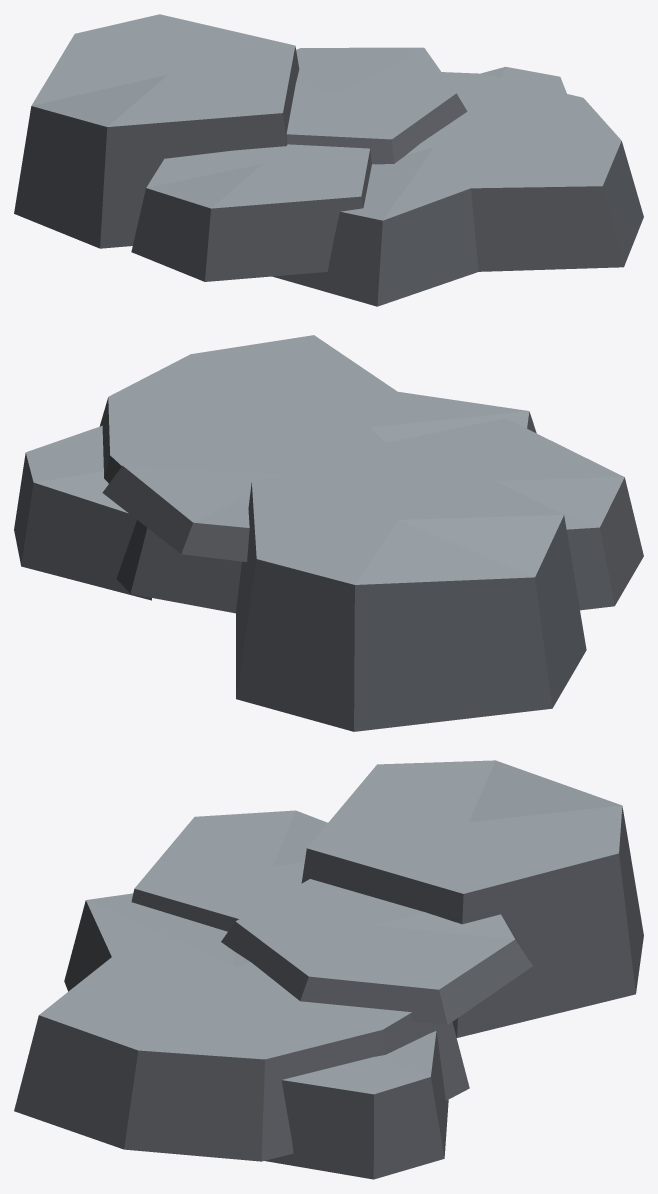
The picture shows the model from 3 angles, top to bottom: view 1: azimuth 30°, elevation 25°; view 2: azimuth 150°, elevation 25°; view 3: azimuth 270°, elevation 25°; orthographic projection. The views are drawn at different scales.
Parts seen in each view (by area): view 1: SK_01; view 2: SK_01; view 3: SK_01.
Part boxes in pixels (box(x1,y1,x2,y2)): SK_01: box(14, 14, 643, 306); SK_01: box(14, 335, 643, 731); SK_01: box(14, 760, 643, 1179).
Size of the model in its own units: 7.91 by 1.9 by 7.25.
